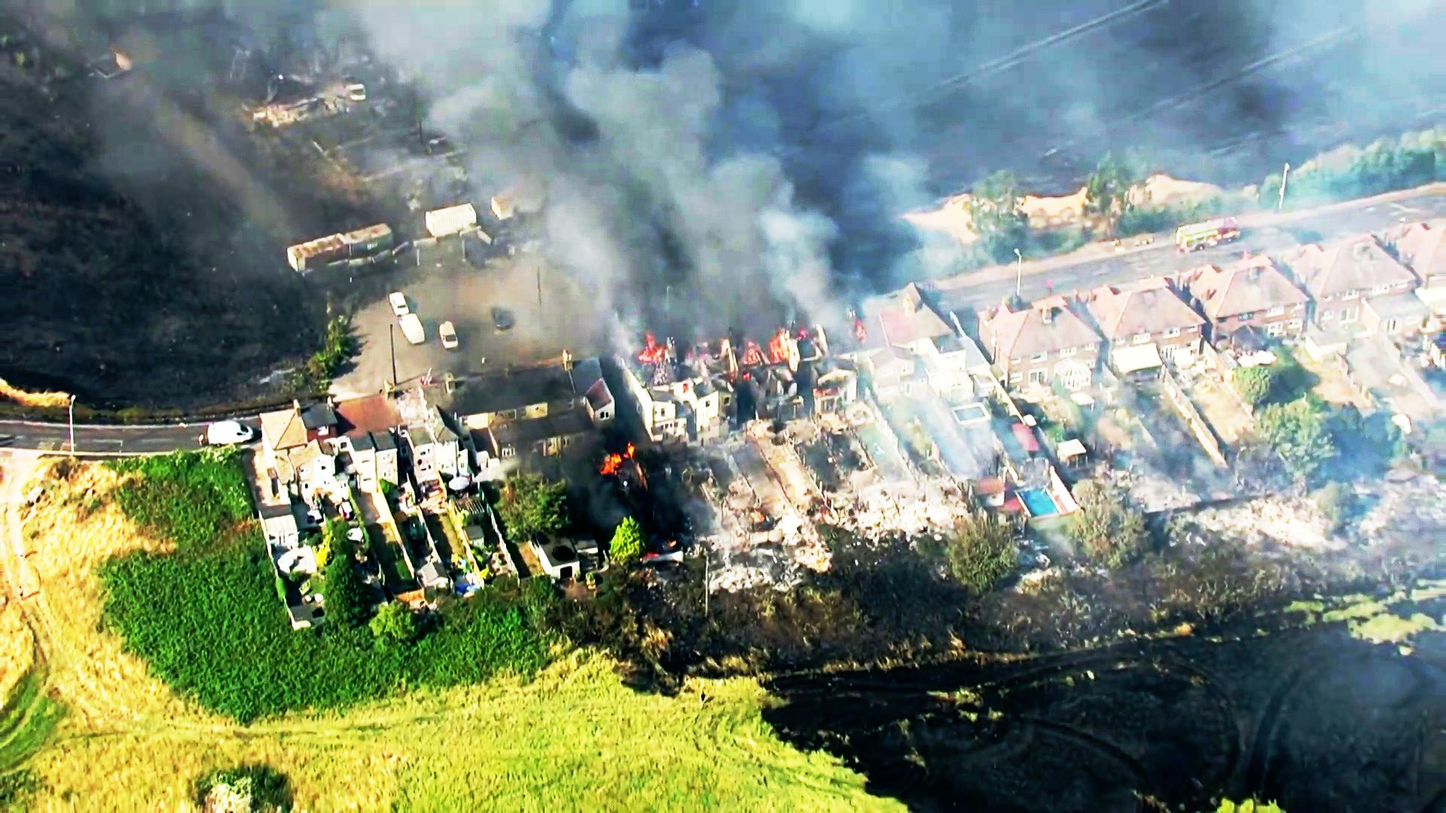smoke: (516, 0, 855, 307), (416, 0, 837, 134)
